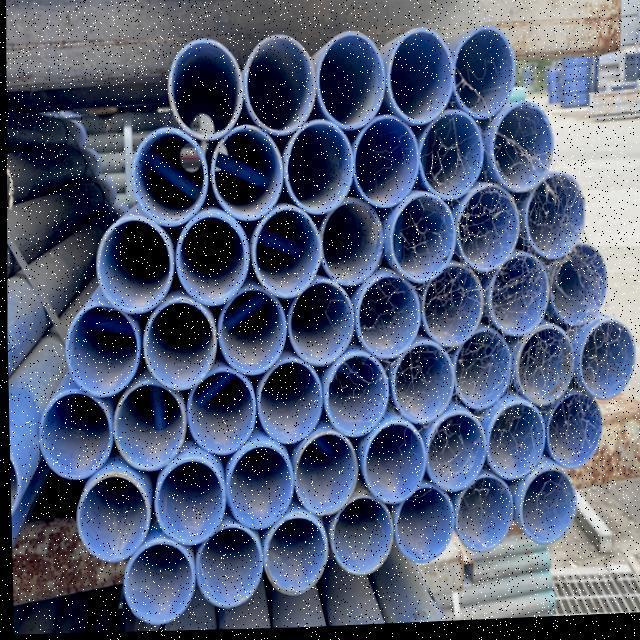pipe: (162, 36, 246, 148), (127, 128, 209, 235), (90, 216, 174, 320), (171, 212, 253, 316), (241, 34, 319, 142), (312, 32, 390, 136), (136, 296, 218, 394), (382, 30, 456, 136), (207, 126, 285, 226), (106, 378, 186, 474), (61, 301, 140, 398), (70, 469, 148, 567), (280, 121, 356, 221), (35, 387, 112, 483), (413, 111, 488, 208), (214, 286, 288, 384), (149, 453, 225, 548), (118, 538, 196, 630), (249, 208, 322, 306), (182, 367, 258, 461), (350, 116, 420, 217), (384, 192, 458, 287), (450, 22, 518, 124), (190, 518, 262, 614), (487, 103, 558, 200), (318, 352, 391, 446), (219, 446, 296, 534), (288, 431, 361, 522), (418, 266, 490, 358), (252, 358, 324, 450), (352, 276, 424, 366), (452, 188, 520, 283), (316, 201, 384, 295), (518, 175, 588, 266), (386, 340, 456, 430), (286, 282, 358, 369), (359, 419, 428, 506), (482, 255, 549, 344), (326, 499, 394, 584), (572, 318, 636, 408), (260, 512, 326, 599), (422, 415, 487, 502), (544, 249, 608, 337), (481, 402, 545, 488), (512, 328, 579, 410), (451, 332, 515, 417), (451, 472, 513, 558), (540, 390, 602, 475), (391, 484, 455, 566), (512, 471, 574, 554)
